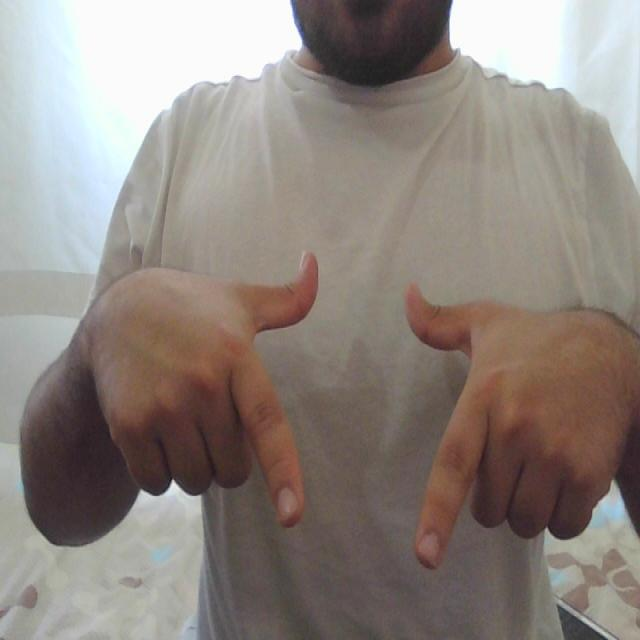Nerede: (220, 243, 514, 580)
